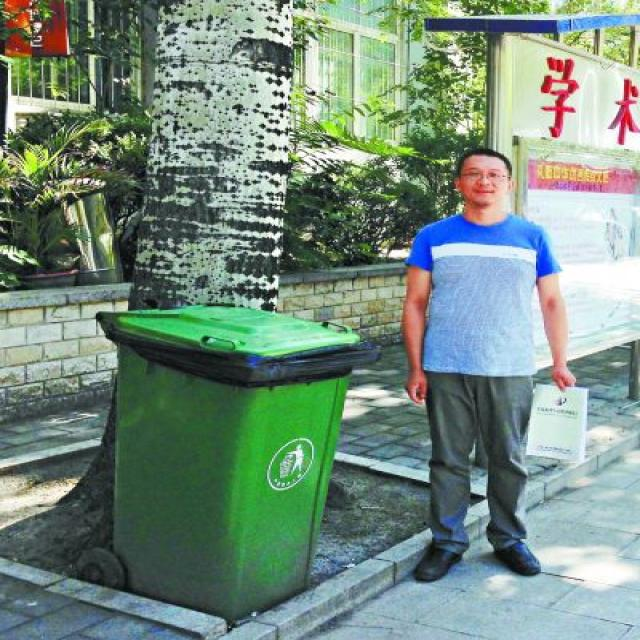garbage_bin: (91, 302, 378, 620)
